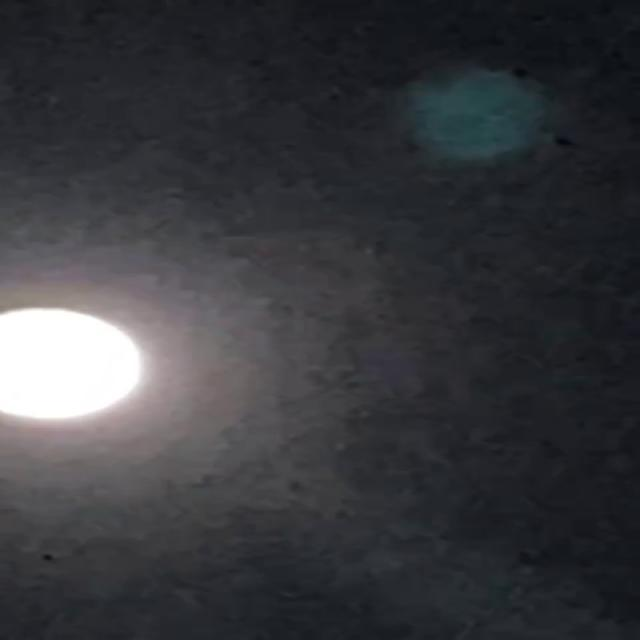moon: (0, 295, 229, 439)
